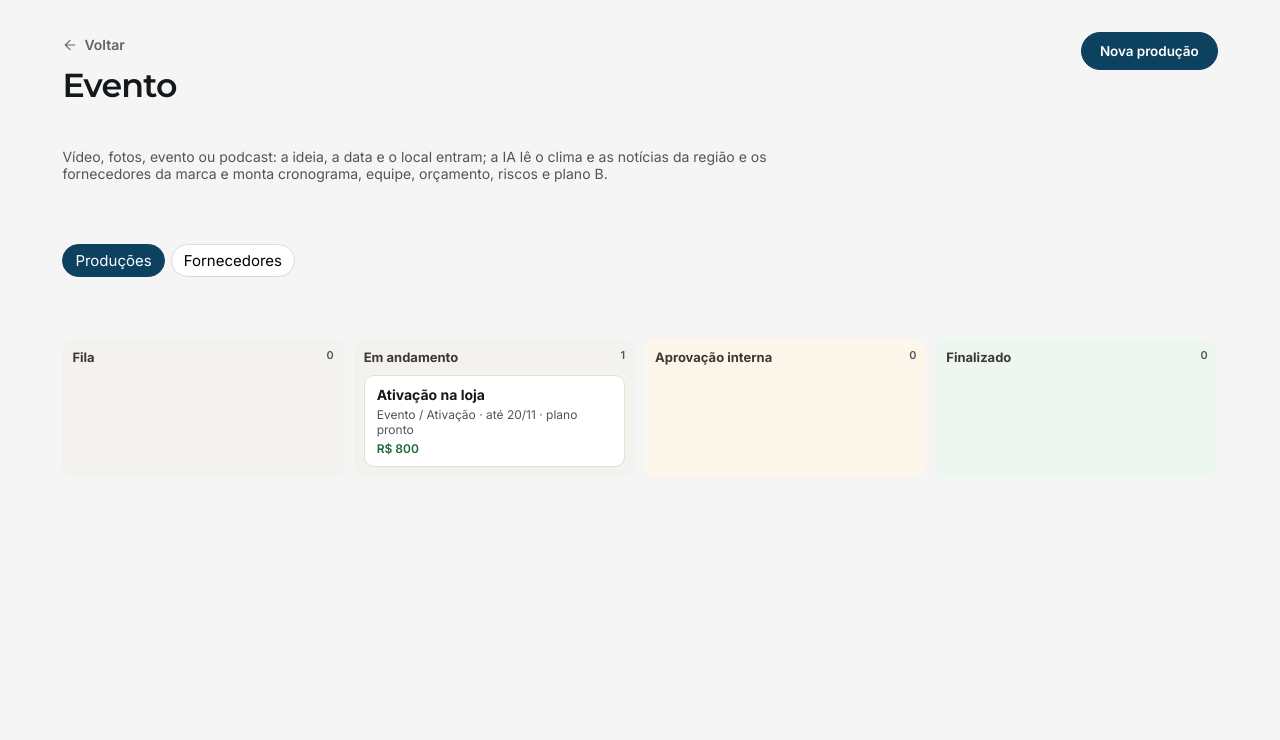
Evento: clima e notícias da região › puxa a previsão, mostra alertas e notícias
Step 1. Click the button that starts with "Ativação na loja" → click(494, 421), box [364,375,625,467]
(page scrolled)
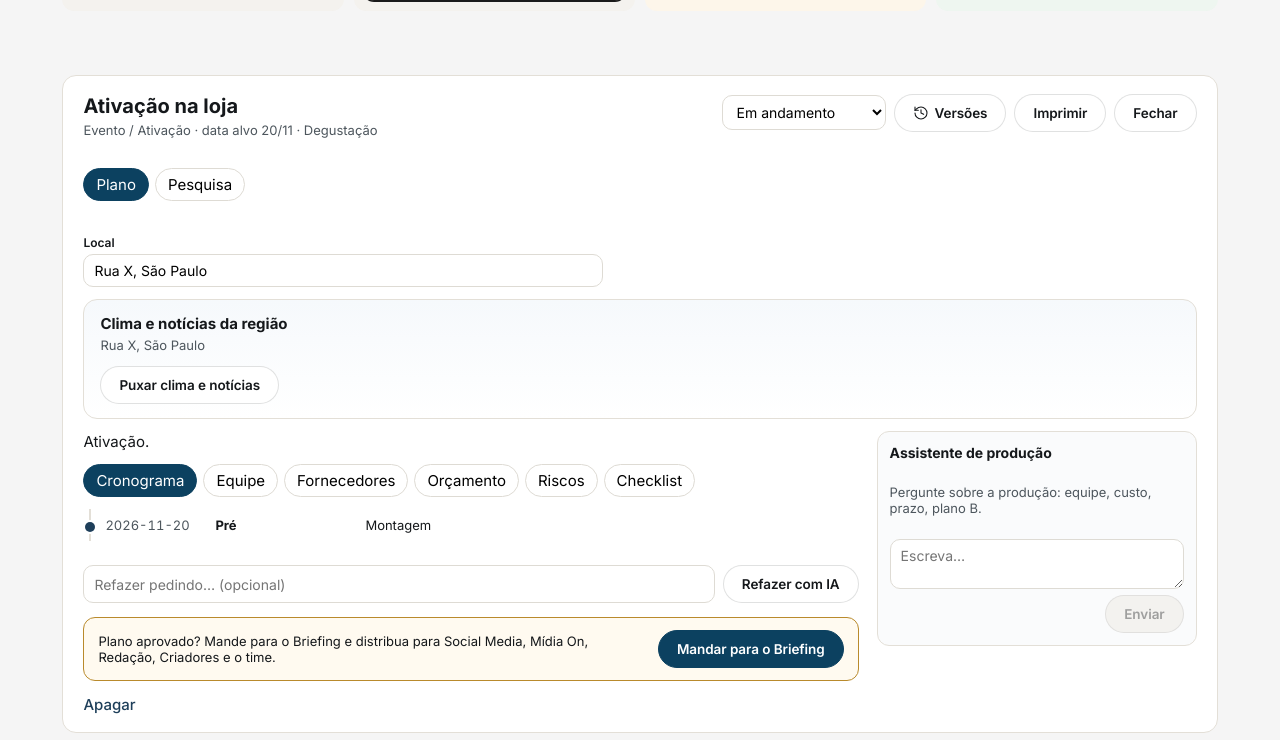
Result: the element with class "evRadar" shows "Rua X, São Paulo" at [100,337,205,353]
Step 2. Click the button "Puxar clima e notícias" → click(190, 385), box [100,366,279,404]
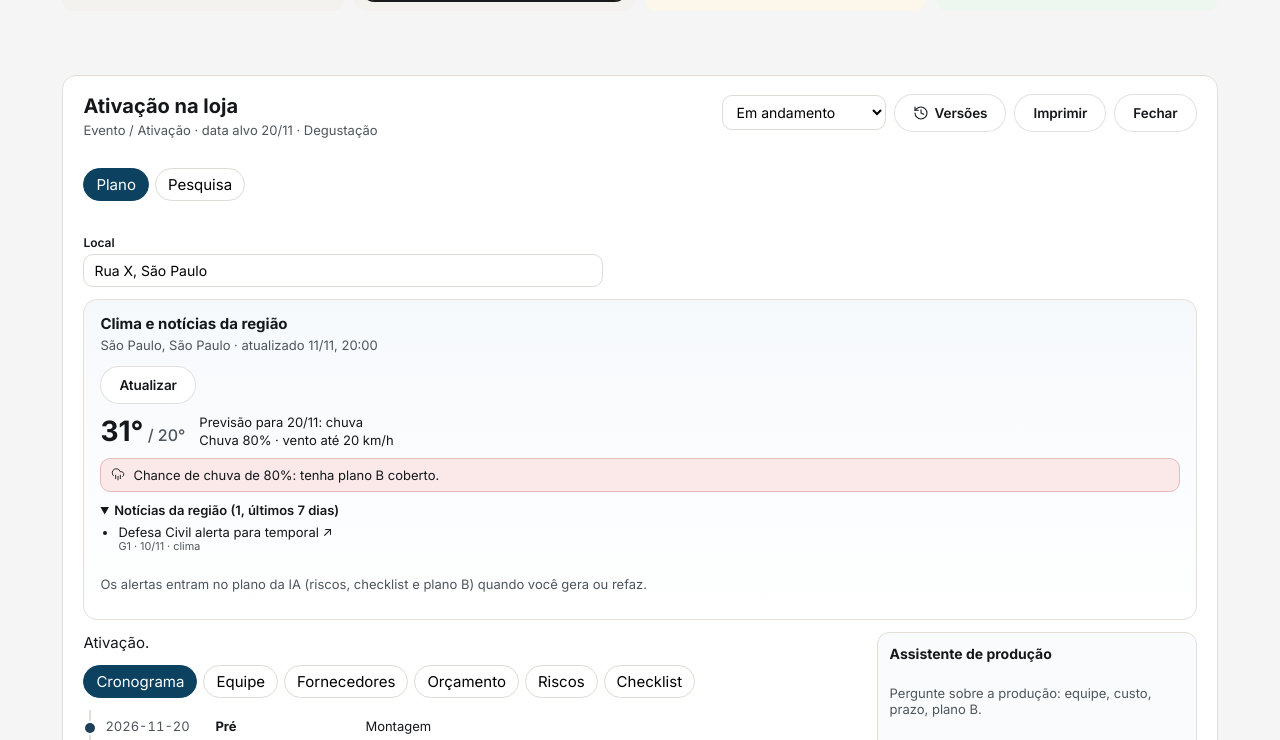
Result: the element with class "evRadar" shows "Previsão para 20/11: chuva" at [83,299,1197,620]
Result: the element with class "evRadar" shows "plano B coberto" at [133,467,439,483]
Result: the element with class "evRadar" shows "Defesa Civil alerta para temporal" at [118,524,333,540]
